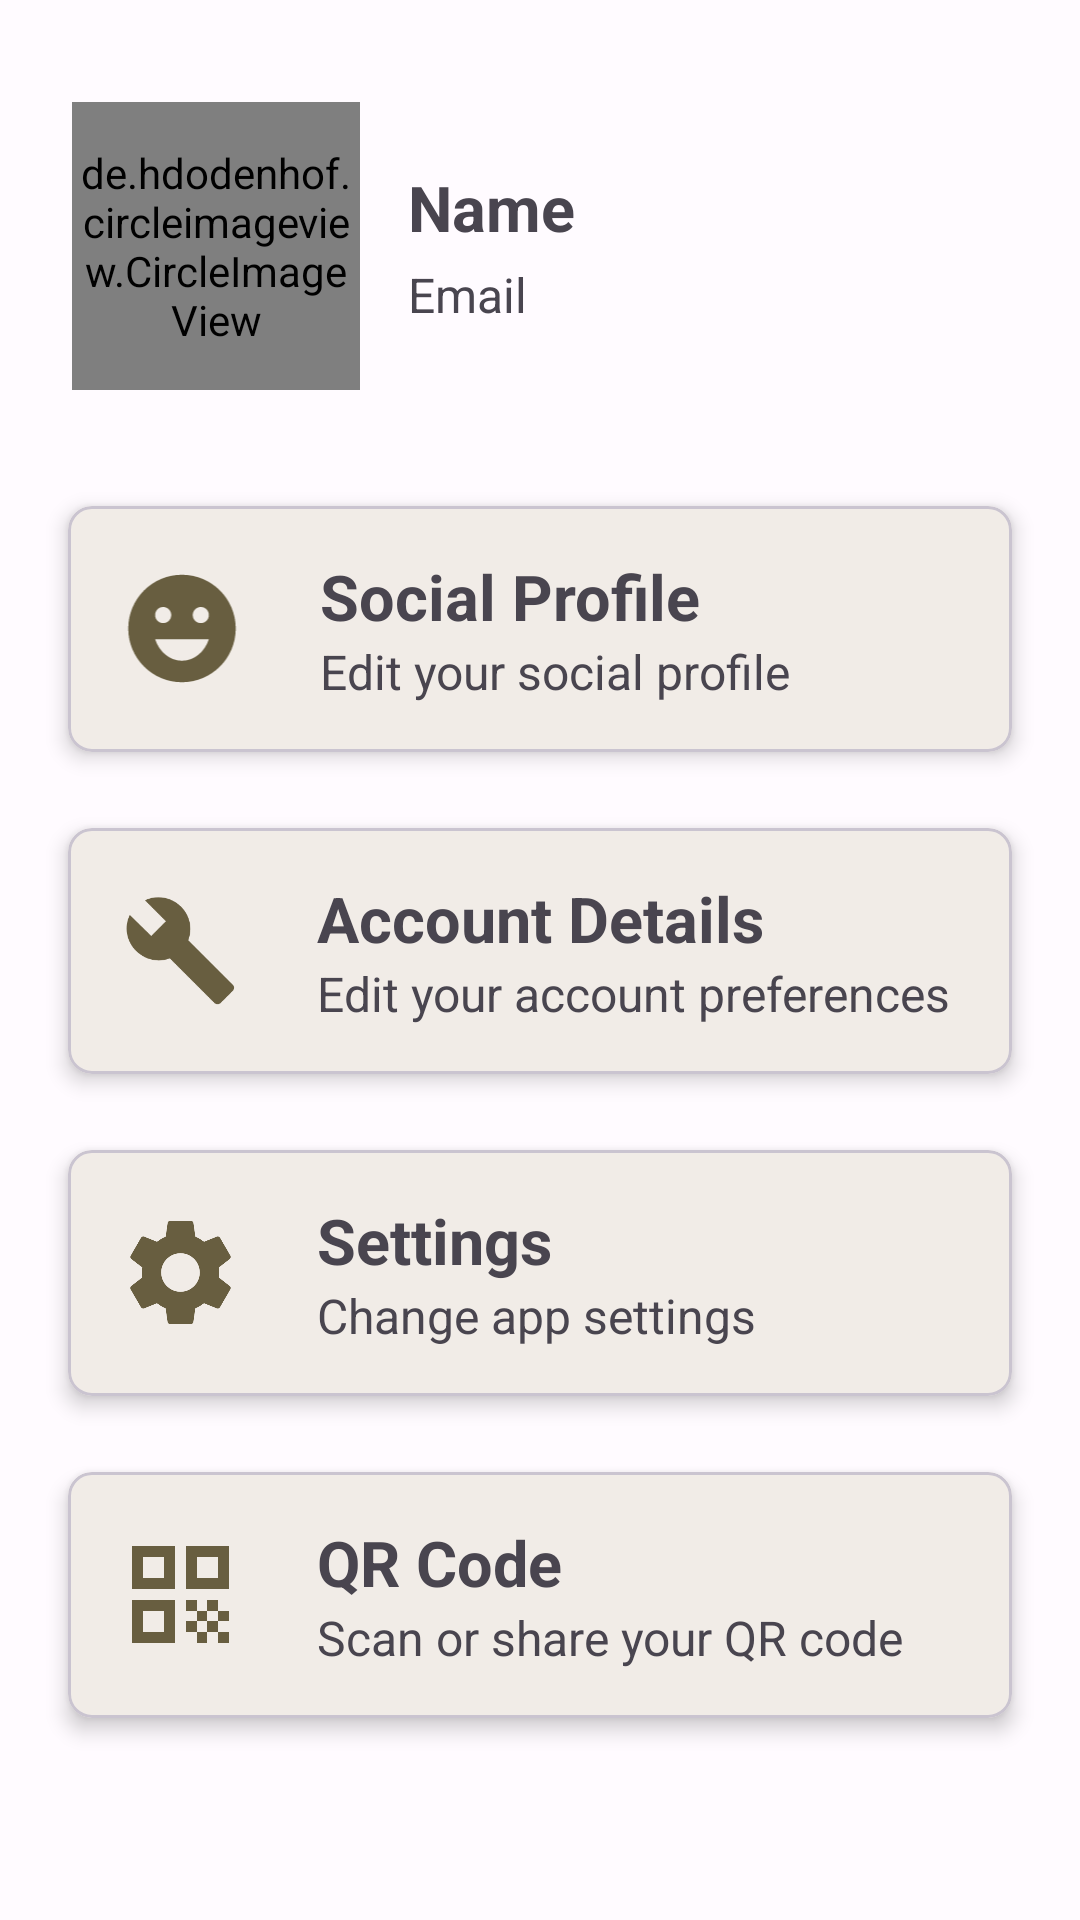

Icon click points for this 1080*1920 phone screenshot, format (x,y):
emoji emotions: (182,628)
